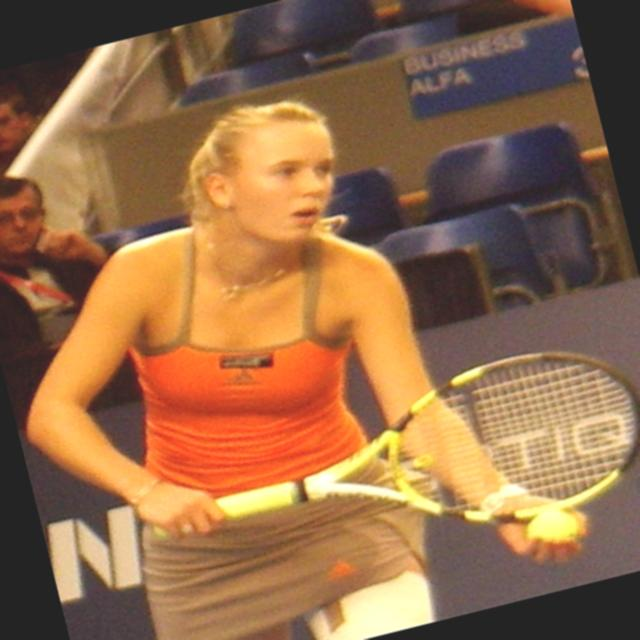Tennis ball: (522, 506, 578, 546)
